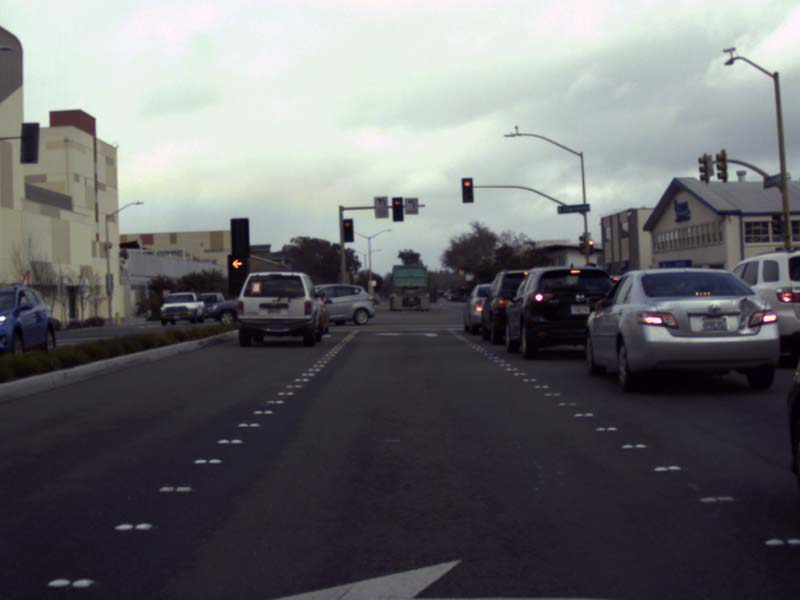Red: (227, 254, 248, 293), (461, 178, 473, 202), (392, 198, 403, 221), (343, 219, 353, 242), (587, 237, 593, 254)
